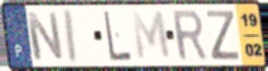I: (64, 7, 80, 66)
L: (102, 9, 133, 63)
M: (130, 9, 173, 62)
N: (24, 11, 66, 62)
R: (170, 8, 210, 63)
Z: (205, 9, 241, 62)
